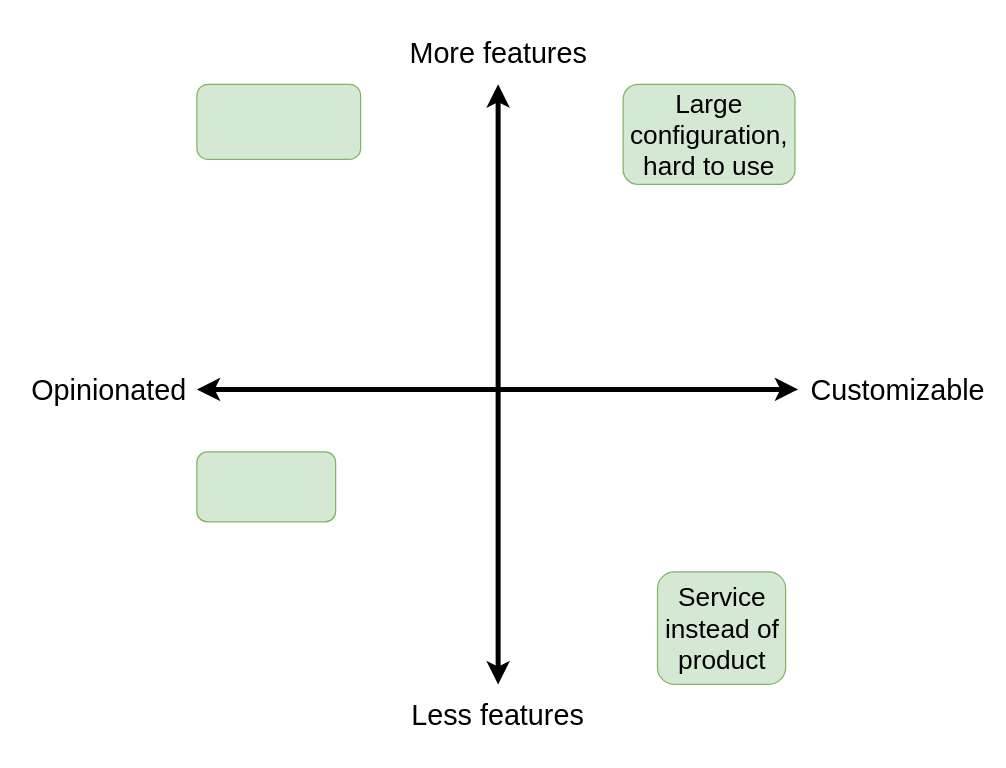
Image size: 1006x768. Some labels were removed from this diagram. Each missing label, with the centre of its shape:
"Fat product, more hacks" belongs at (x=278, y=121).
"Narrow userbase" belongs at (x=266, y=486).
